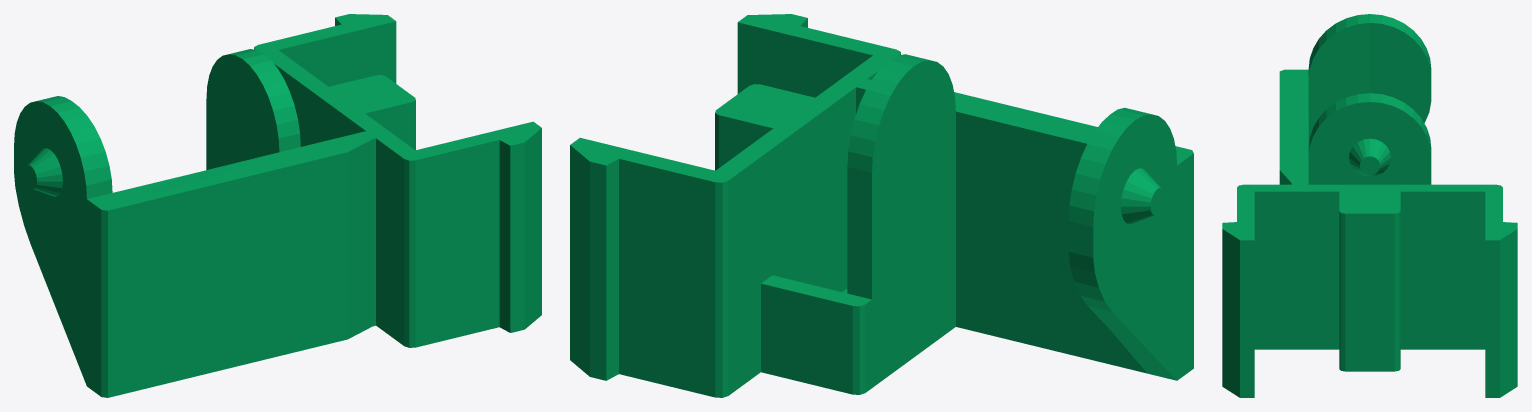
File: cableChain_40MountSide_v2-50.glb
3 views of the same model, side by side, from view 1: azimuth 30°, elevation 25°; view 2: azimuth 150°, elevation 25°; view 3: azimuth 270°, elevation 25° (orthographic). The views are drawn at different scales.
Bounding box in the file's own units: 41.2 × 23 × 28.86.
